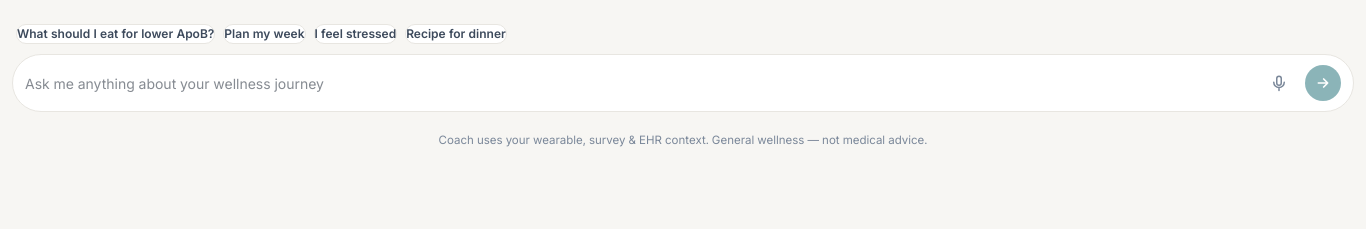
Test case: CoachChat › concatenates token chunks into the assistant bubble
Type "How is my sleep?" into the field with placeholder "Ask me anything about your wellness journey" at (639, 83), box [25,72,1253,94]
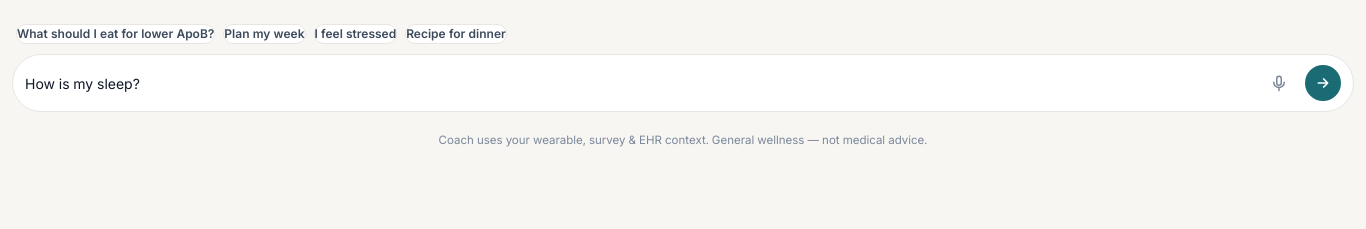
Submit the form with placeholder "ask me anything", box [12,54,1354,112]
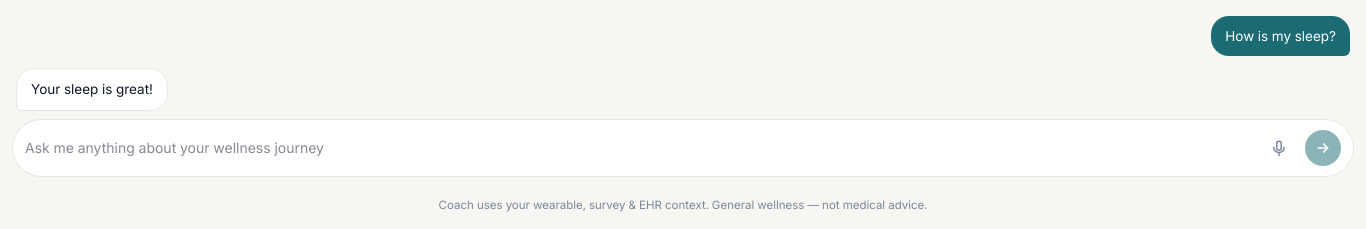
expect the text "Your sleep is great!" is shown: met, box [16,68,168,111]
